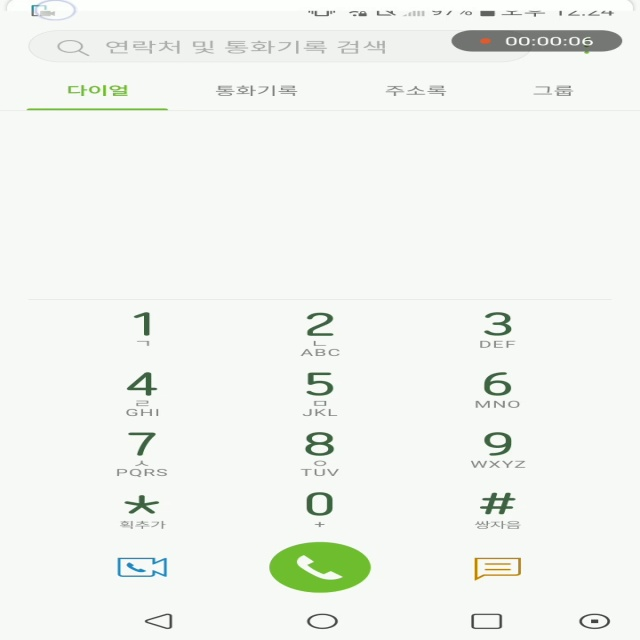Cursor: (35, 1, 80, 23)
